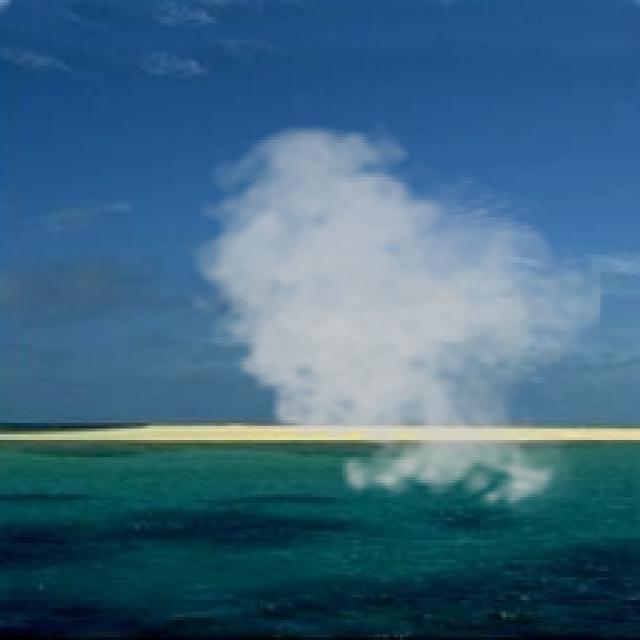Smoke: (180, 117, 606, 520)
